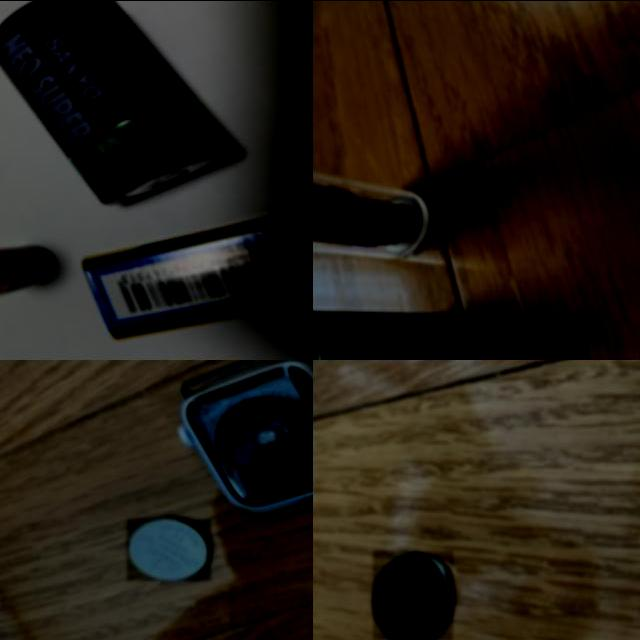9V: (82, 212, 313, 341)
